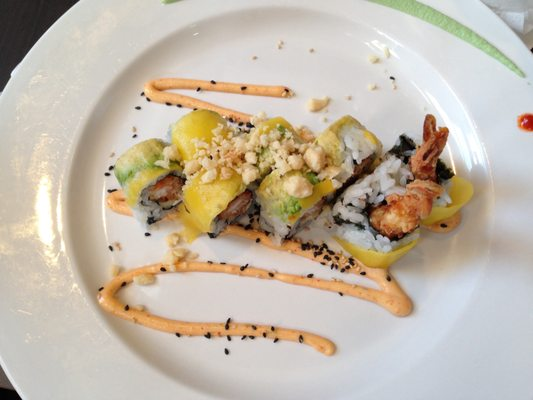sushi: (53, 1, 519, 395)
